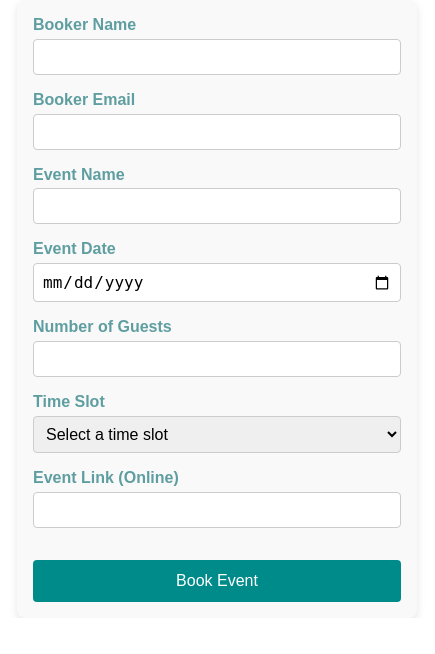
Test: BookingForm Component › shows error if the selected time slot is unavailable
Step 1. Type "John Doe" into the field labelled "Booker Name" → (217, 57), box [33, 39, 401, 75]
Step 2. Type "john.doe@example.com" into the field labelled "Booker Email" → (217, 132), box [33, 114, 401, 150]
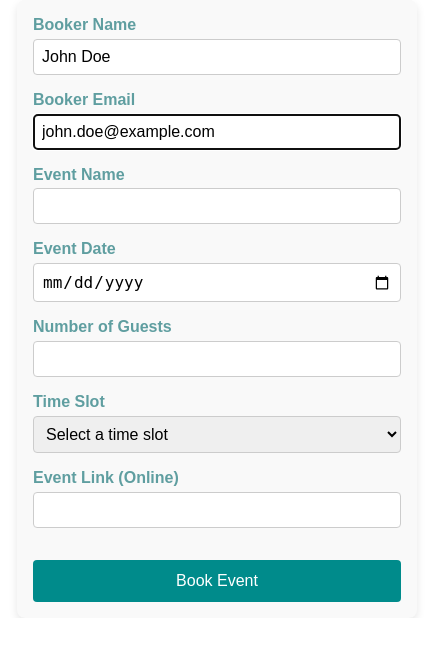
Step 3. Type "React Workshop" into the field labelled "Event Name" → (217, 206), box [33, 188, 401, 224]
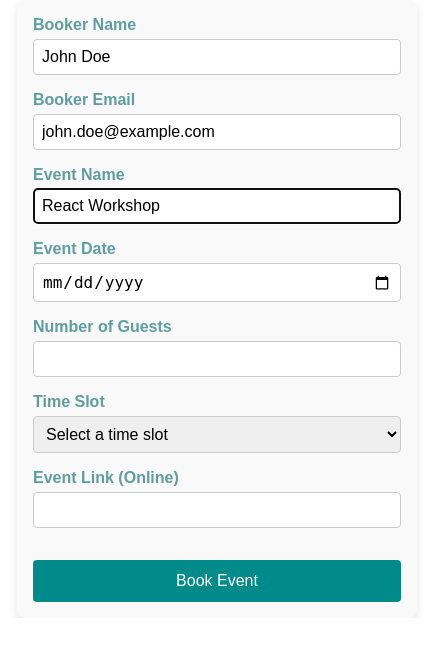
Step 4. Type "2035-12-15" into the date field labelled "Event Date" → (217, 283), box [33, 263, 401, 302]
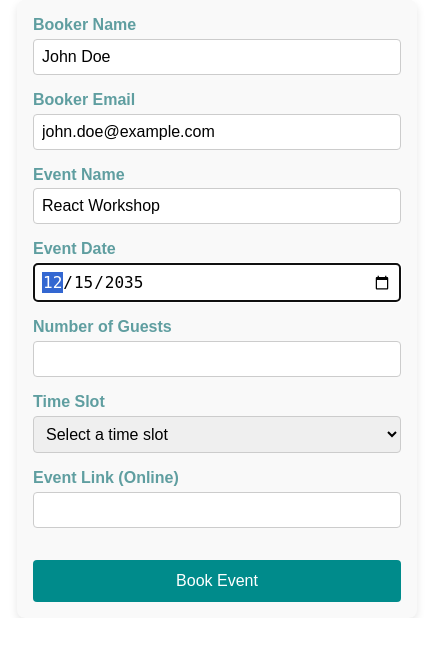
Step 5. Type "3" into the number field labelled "Number of Guests" → (217, 359), box [33, 341, 401, 377]
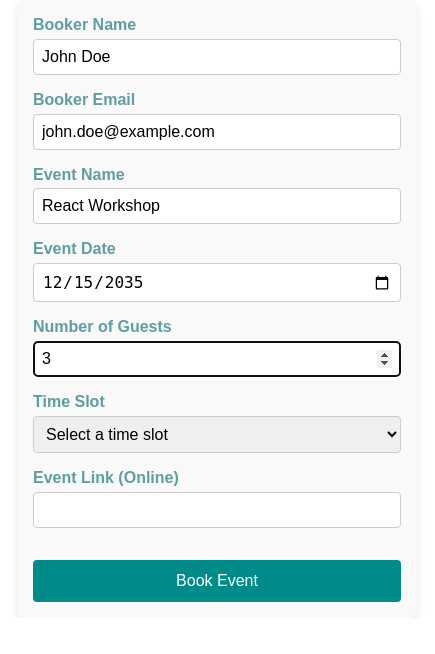
Step 6. Type "https://example.com" into the field labelled "Event Link (Online)" → (217, 510), box [33, 492, 401, 528]
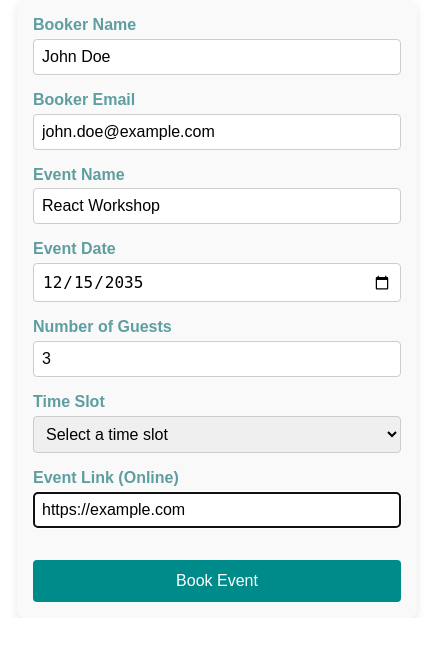
Step 7. Click the button "Book Event" → (217, 581), box [33, 560, 401, 602]
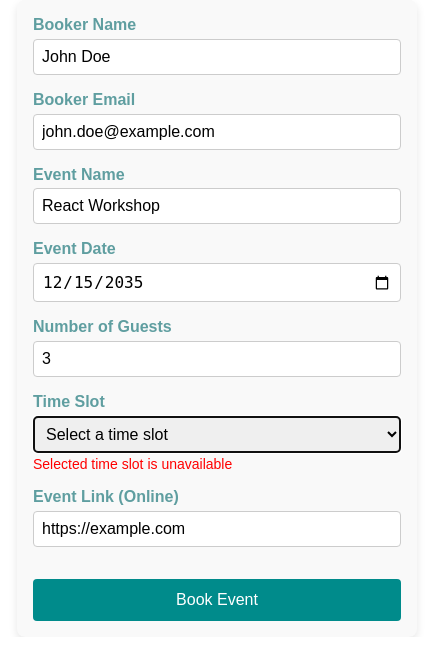
Now the text "Selected time slot is unavailable" is shown, box [33, 456, 232, 472]
